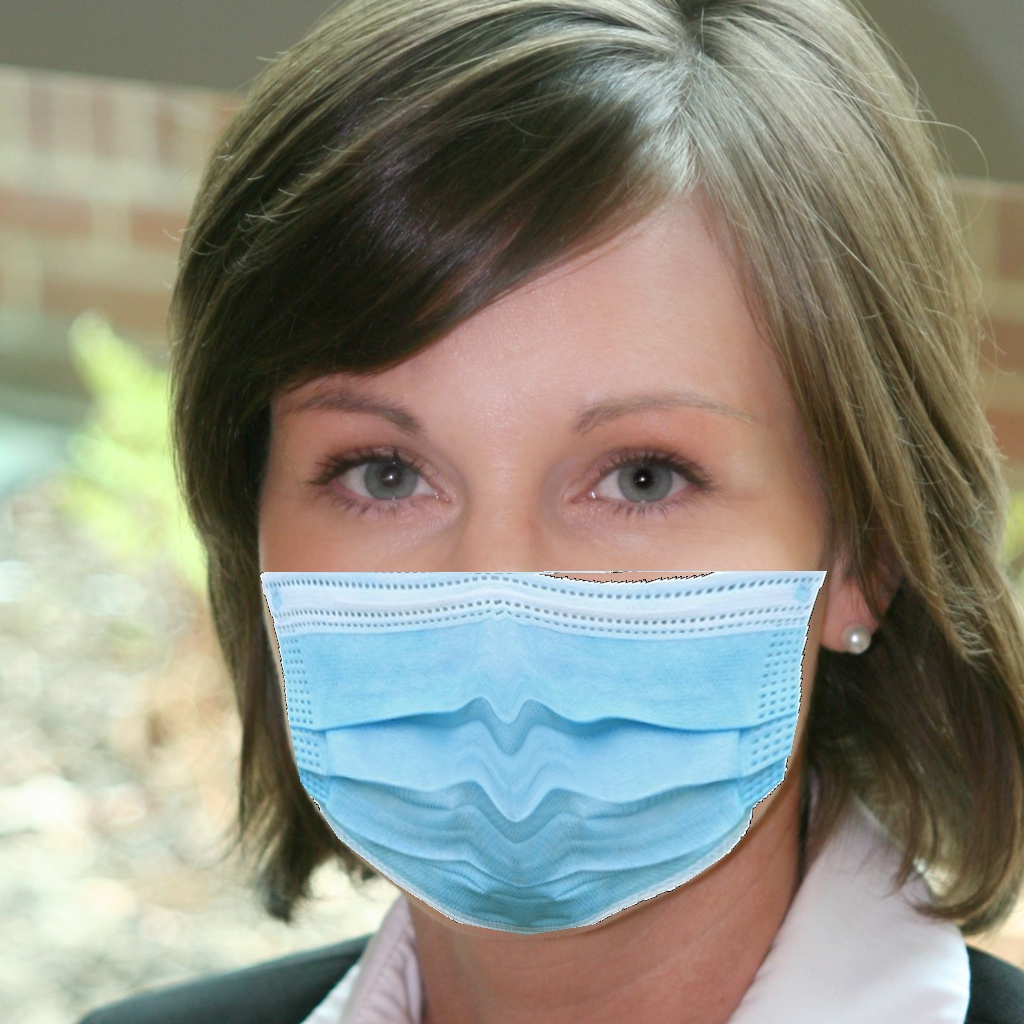Mask: (257, 371, 845, 934)
